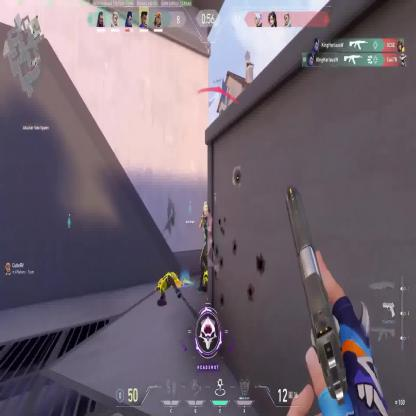enemy: (196, 201, 218, 292)
enemy_head: (202, 202, 210, 217)
